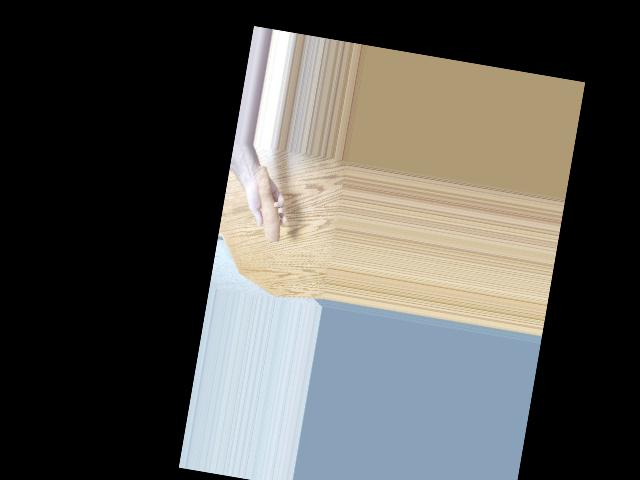sweet_potato: (244, 166, 292, 243)
